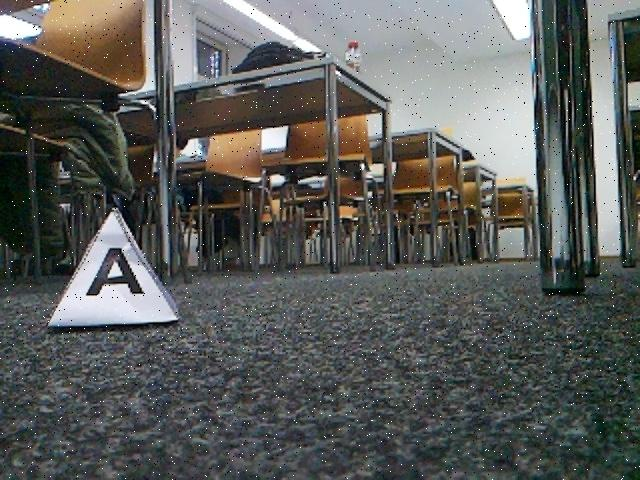A: (45, 209, 178, 327)
